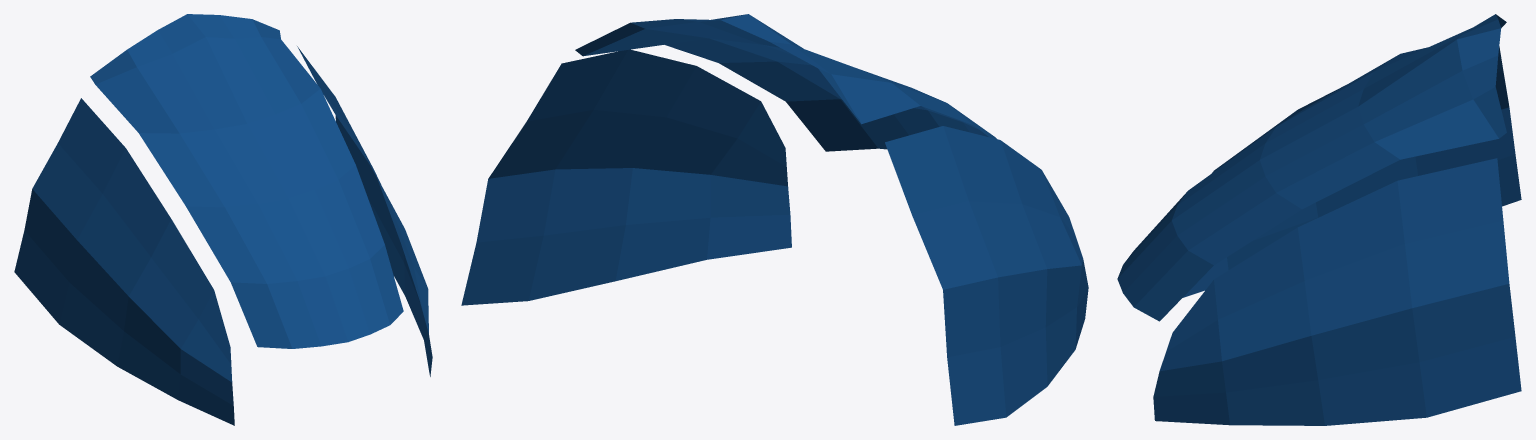
Rendered from CockpitWindow.fbx.
3 views of the same model, side by side, from view 1: azimuth 30°, elevation 25°; view 2: azimuth 150°, elevation 25°; view 3: azimuth 270°, elevation 25° (orthographic). The views are drawn at different scales.
Visible parts, largest first — view 1: Cube.032; view 2: Cube.032; view 3: Cube.032.
Boxes of the visible parts, <box> form: Cube.032: <box>14,14,432,425</box>; Cube.032: <box>461,14,1088,425</box>; Cube.032: <box>1117,14,1521,425</box>.
Bounding box in the file's own units: 260 × 213 × 232.
